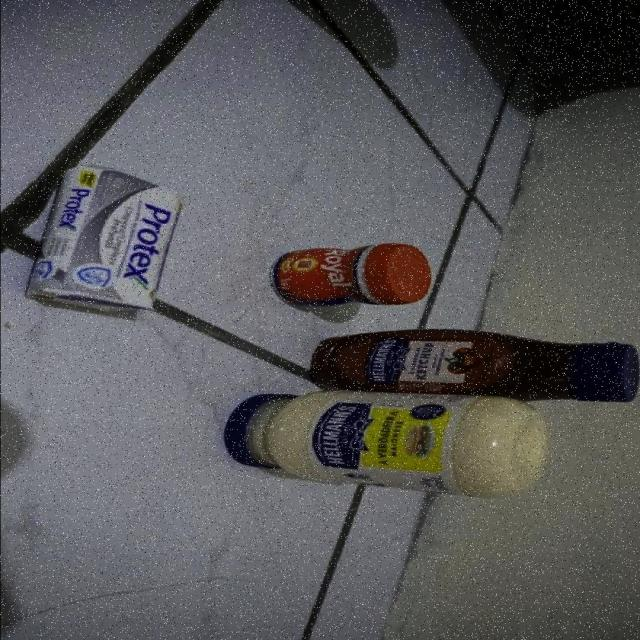Ketchup: (309, 330, 638, 390)
Mayonnaise: (227, 395, 548, 497)
Soap: (25, 163, 182, 312)
Yeast: (272, 244, 432, 308)
